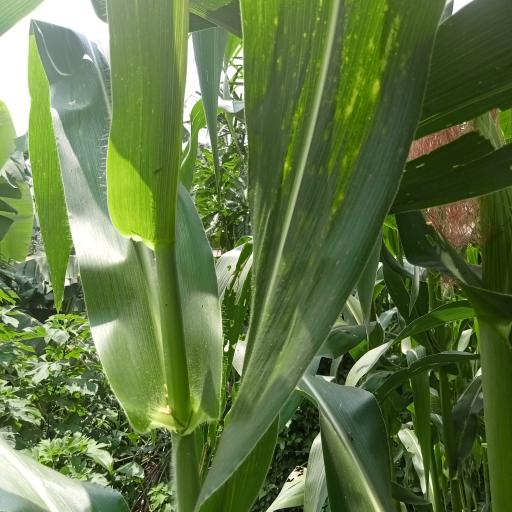Corn_Brown_Spots: (210, 0, 444, 498)
